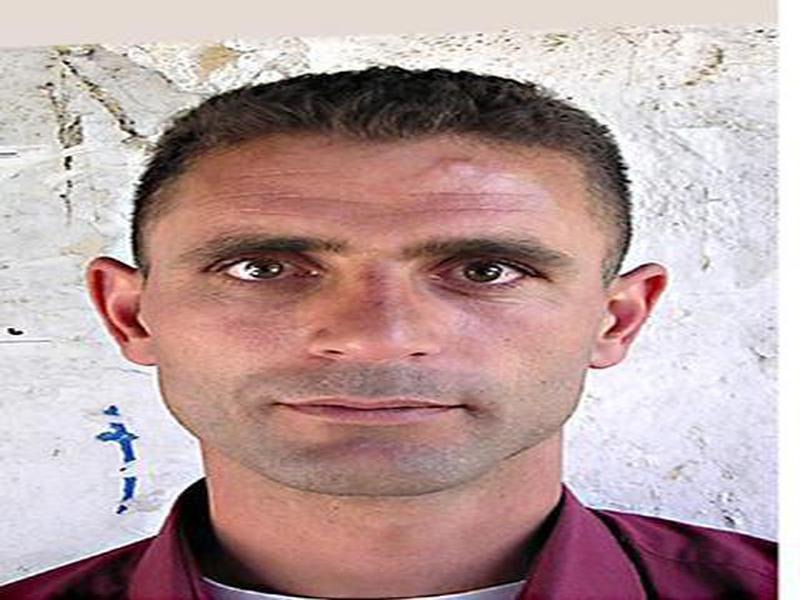without_mask: (146, 165, 602, 495)
